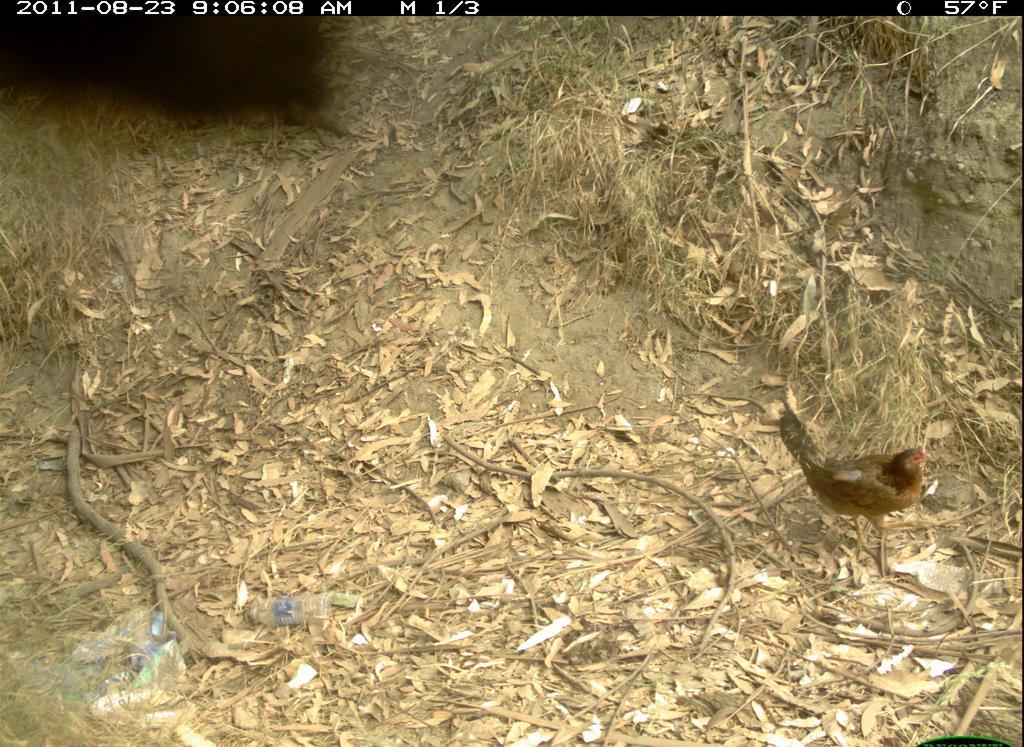bird: (772, 397, 937, 585)
